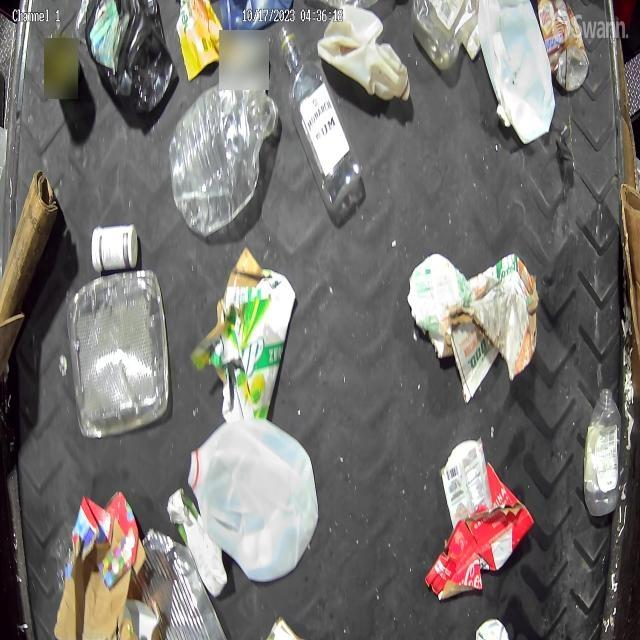milk_jug: (189, 418, 319, 582), (476, 0, 557, 144)
plastic_bottle: (278, 25, 361, 214)
